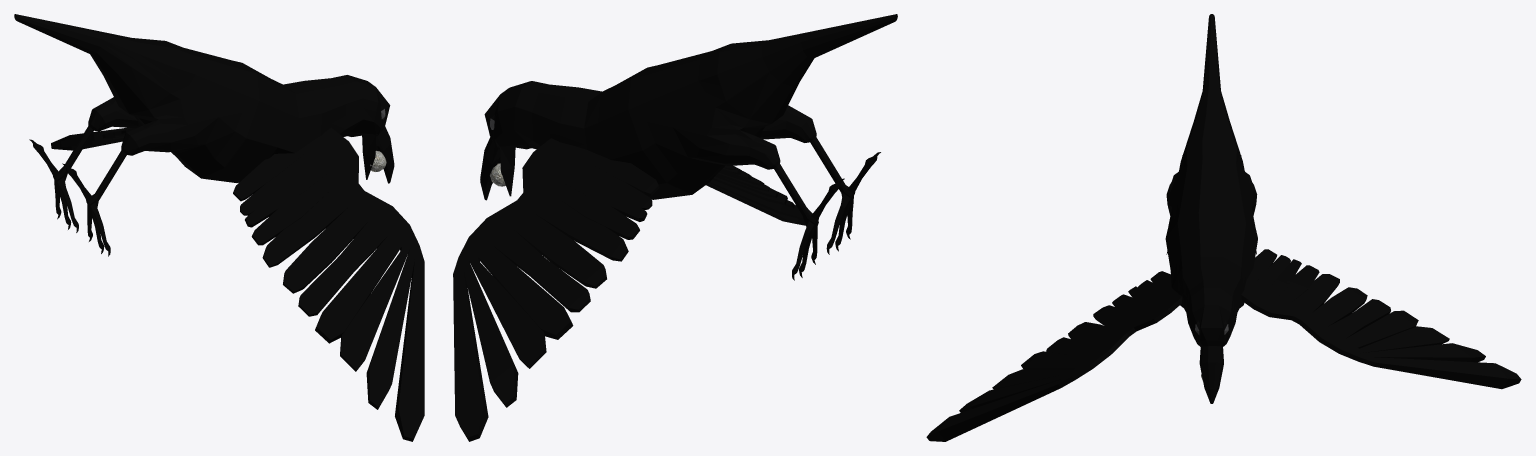
File: crow_up_stone_000009.obj
The picture shows the model from 3 angles, left to right: view 1: azimuth 30°, elevation 25°; view 2: azimuth 150°, elevation 25°; view 3: azimuth 270°, elevation 25°; orthographic projection. The views are drawn at different scales.
Visible parts, largest first — view 1: Cylinder; view 2: Cylinder; view 3: Cylinder.
Part boxes in pixels (x1,y1,x2,y2): Cylinder: [14, 14, 424, 441]; Cylinder: [453, 14, 897, 441]; Cylinder: [926, 14, 1521, 441].
Bounding box in the file's own units: 1.37 × 1.27 × 2.11.
